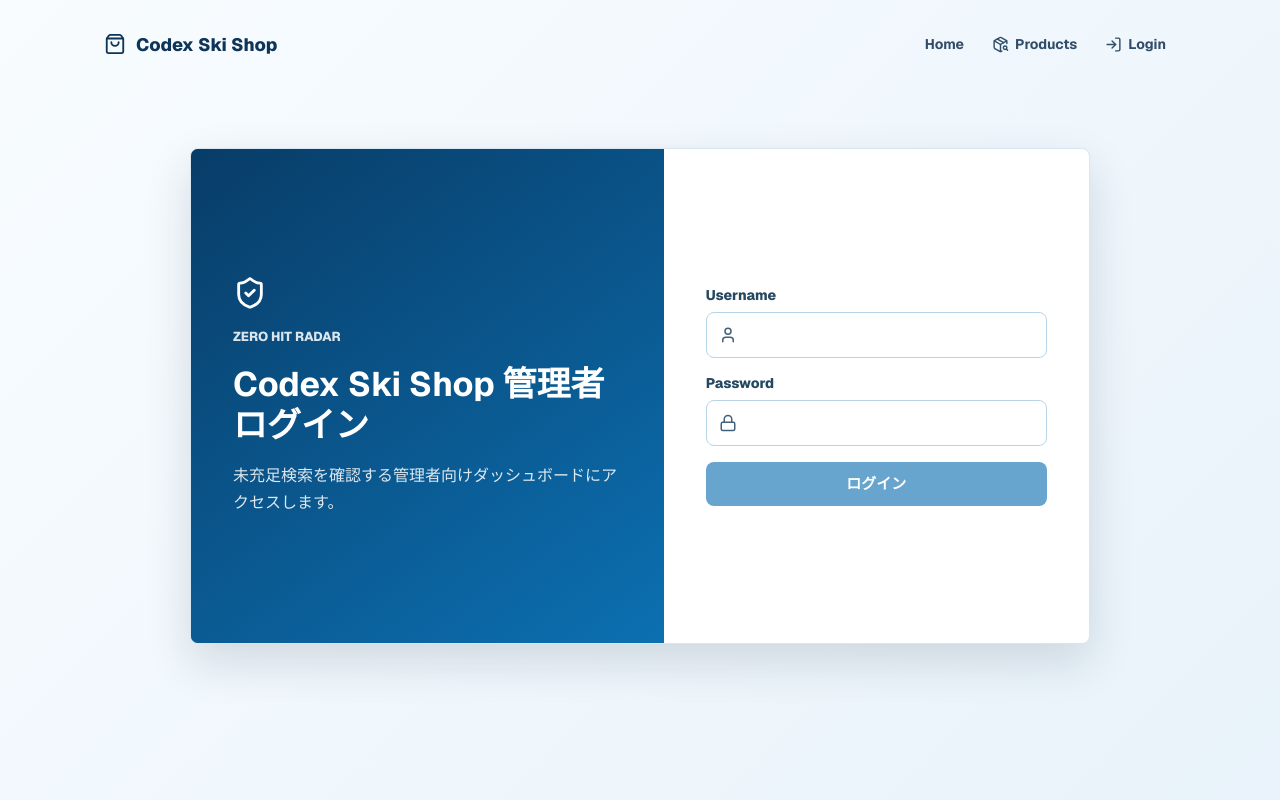
Test: auth pages › treats success=false as authentication failure
The width and height of the screenshot is (1280, 800).
Type "admin" into the field labelled "Username" at (890, 335), box [747, 313, 1034, 357]
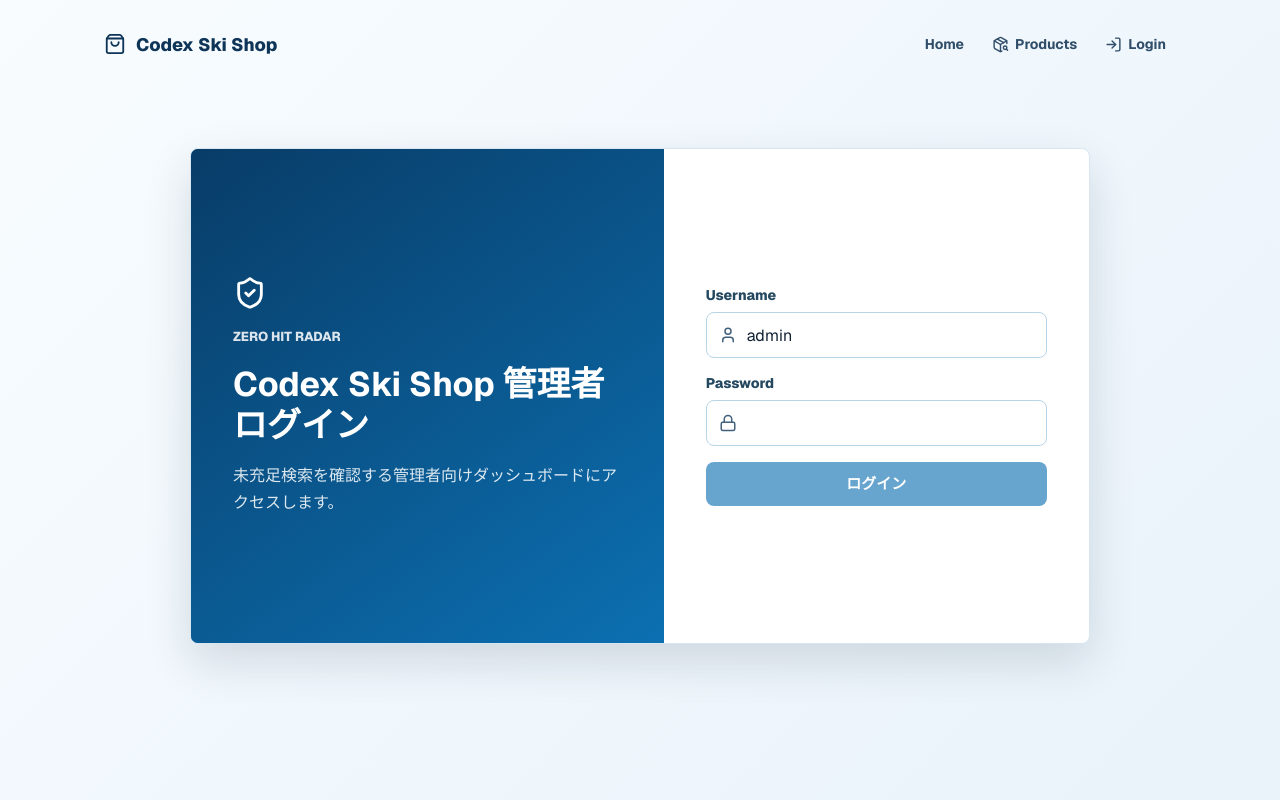
Type "wrong" into the password field labelled "Password" at (890, 423), box [747, 401, 1034, 445]
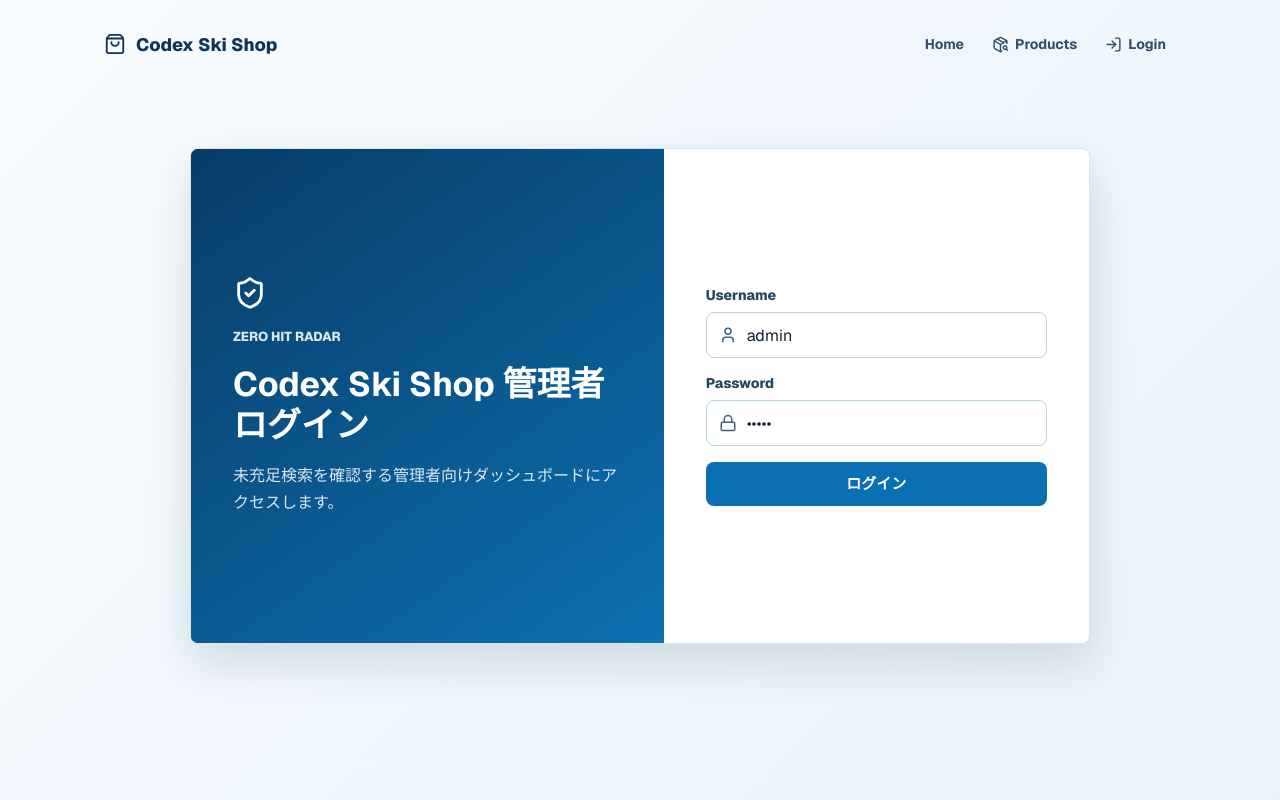
Click the button "ログイン" at (876, 484), box [706, 462, 1047, 506]
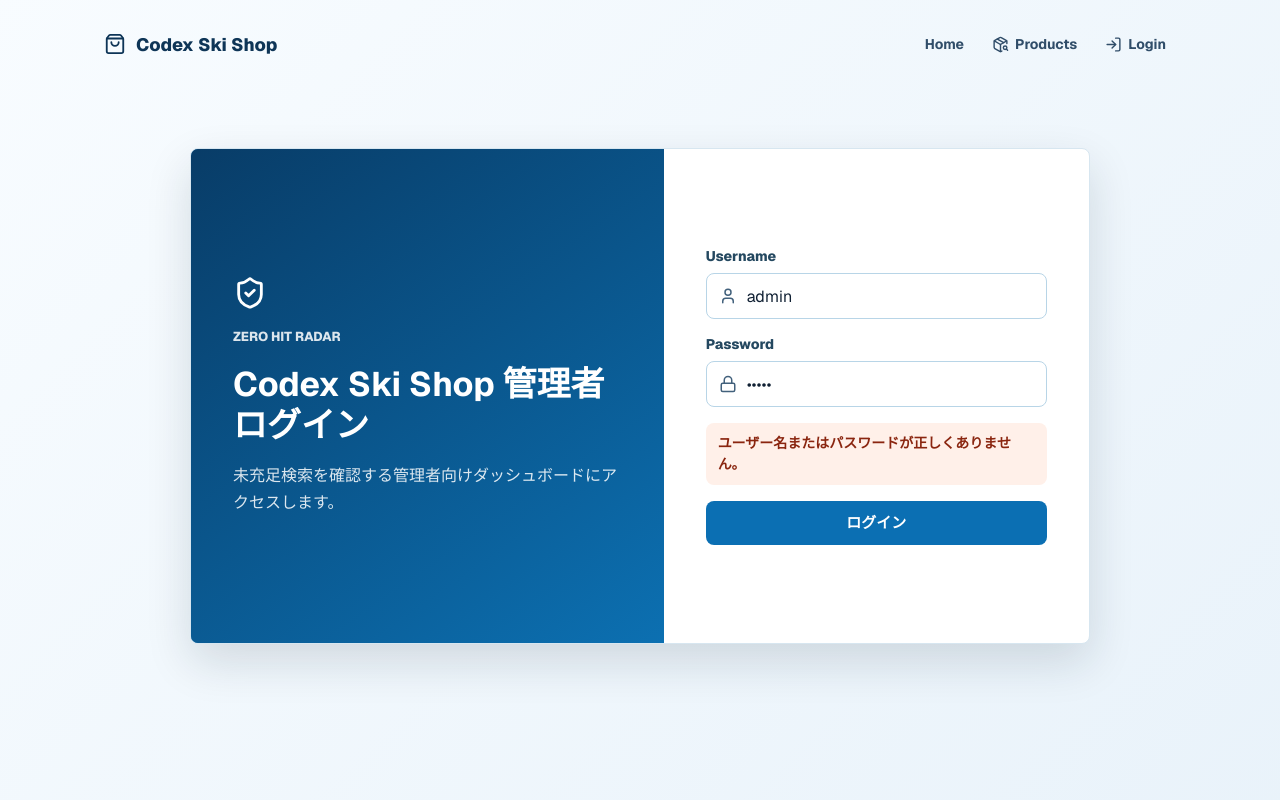
Expected: the text "ユーザー名またはパスワードが正しくありません。" is shown, [706, 423, 1047, 485]
